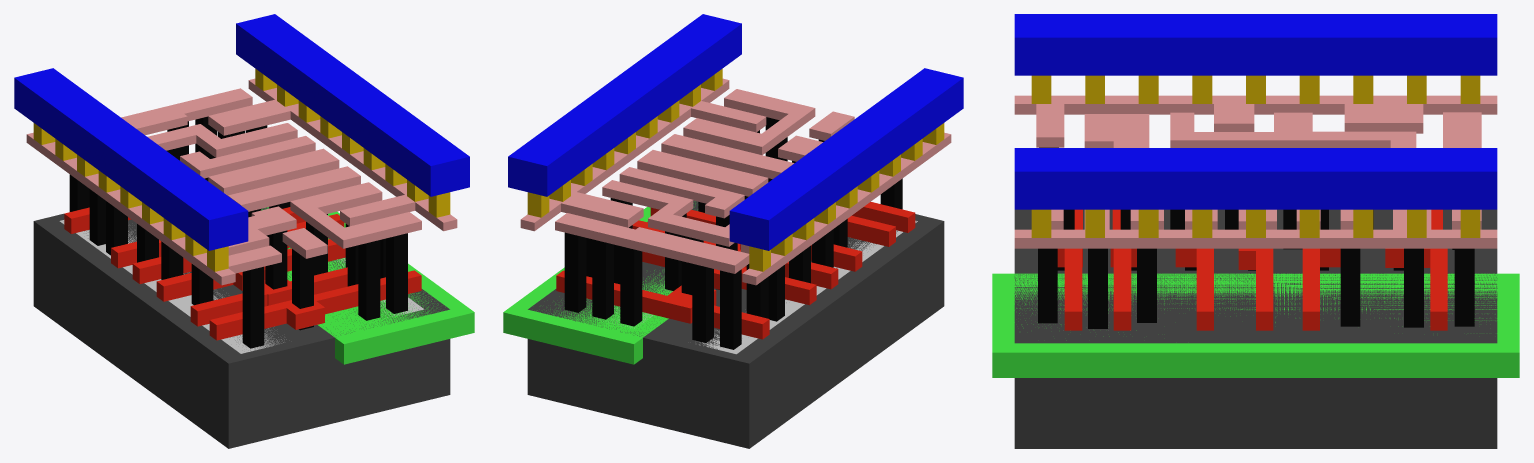
The model's file is sky130_fd_sc_hd__a2111o_1.obj.
3 renders of one model, left to right at view 1: azimuth 30°, elevation 25°; view 2: azimuth 150°, elevation 25°; view 3: azimuth 270°, elevation 25°, orthographic. The views are drawn at different scales.
Visible parts, largest first — view 1: subs, metal1, li, licon, poly, nwell, mcon, diff; view 2: subs, metal1, li, licon, poly, nwell, mcon, diff; view 3: subs, metal1, li, nwell, poly, licon, mcon.
Boxes of the visible parts, x1,y1,x2,y2 form: subs: (33, 207, 450, 448); metal1: (14, 14, 469, 250); li: (26, 78, 457, 285); licon: (69, 116, 407, 348); poly: (64, 207, 421, 340); nwell: (261, 207, 474, 364); mcon: (33, 68, 450, 271); diff: (59, 220, 286, 353); subs: (527, 200, 944, 448); metal1: (508, 14, 963, 250); li: (520, 78, 951, 285); licon: (564, 117, 902, 349); poly: (556, 202, 915, 339); nwell: (503, 201, 697, 364); mcon: (527, 68, 944, 271); diff: (699, 220, 917, 354); subs: (1014, 209, 1497, 448); metal1: (1014, 14, 1497, 209); li: (1014, 95, 1497, 248); nwell: (992, 273, 1519, 377); poly: (1057, 209, 1447, 330); licon: (1038, 147, 1474, 328); mcon: (1031, 75, 1480, 237).
Bounding box in the file's own units: 3.2 × 2.74 × 4.52.
